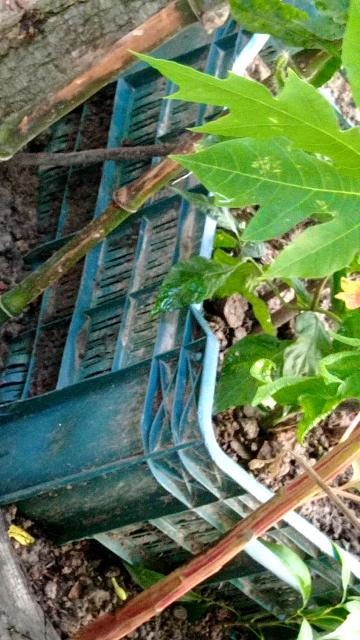hardplastic: (0, 0, 246, 503)
